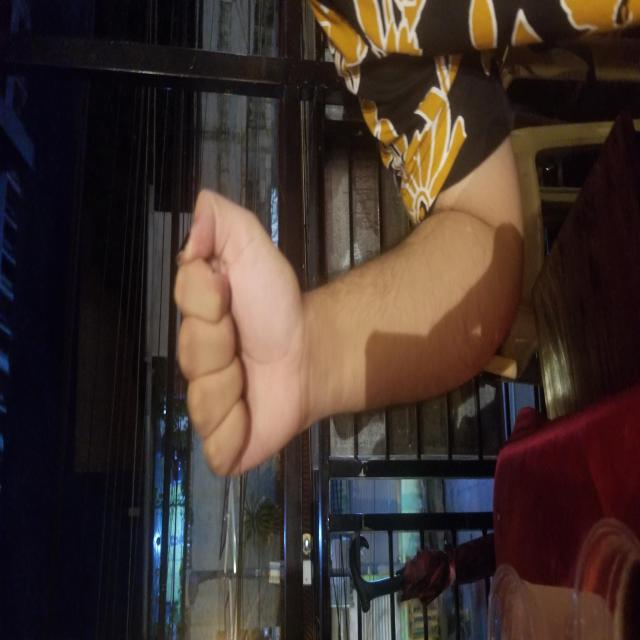A: (154, 171, 458, 305)
